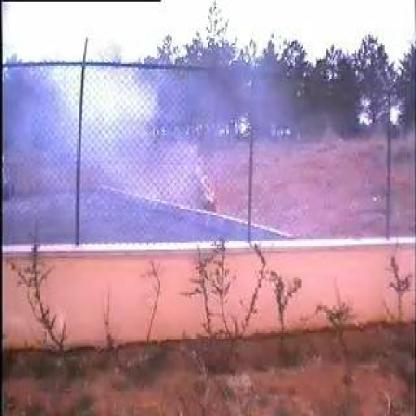-: (57, 66, 224, 229)
